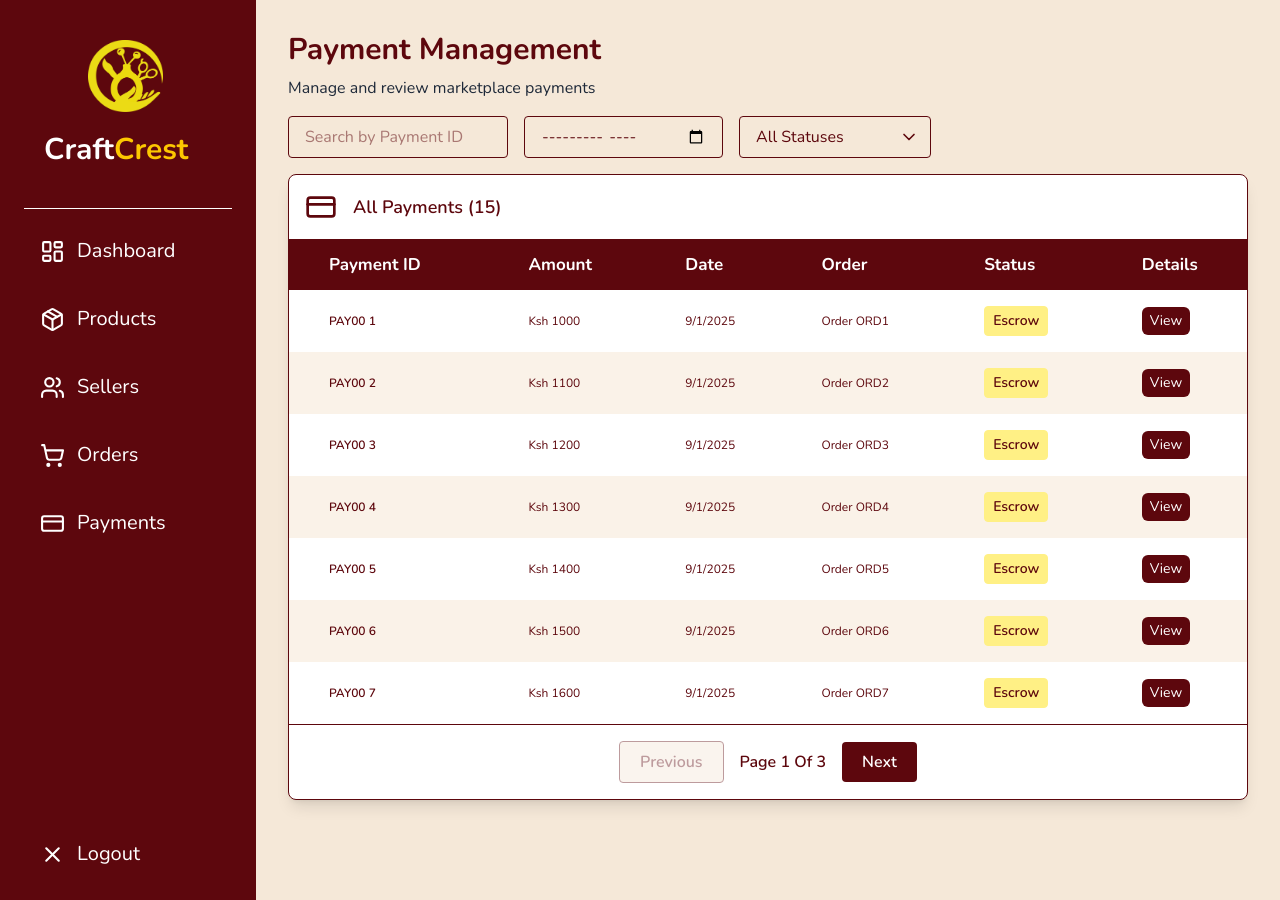
PaymentTable › handles pagination correctly
The image size is (1280, 900).
Expected: the text "Page 1 Of 3" is shown, [740,750,826,774]
Expected: the text "PAY00 1" is shown, [289,290,488,352]
Click the button "Next": (880, 762) [842,742,917,782]
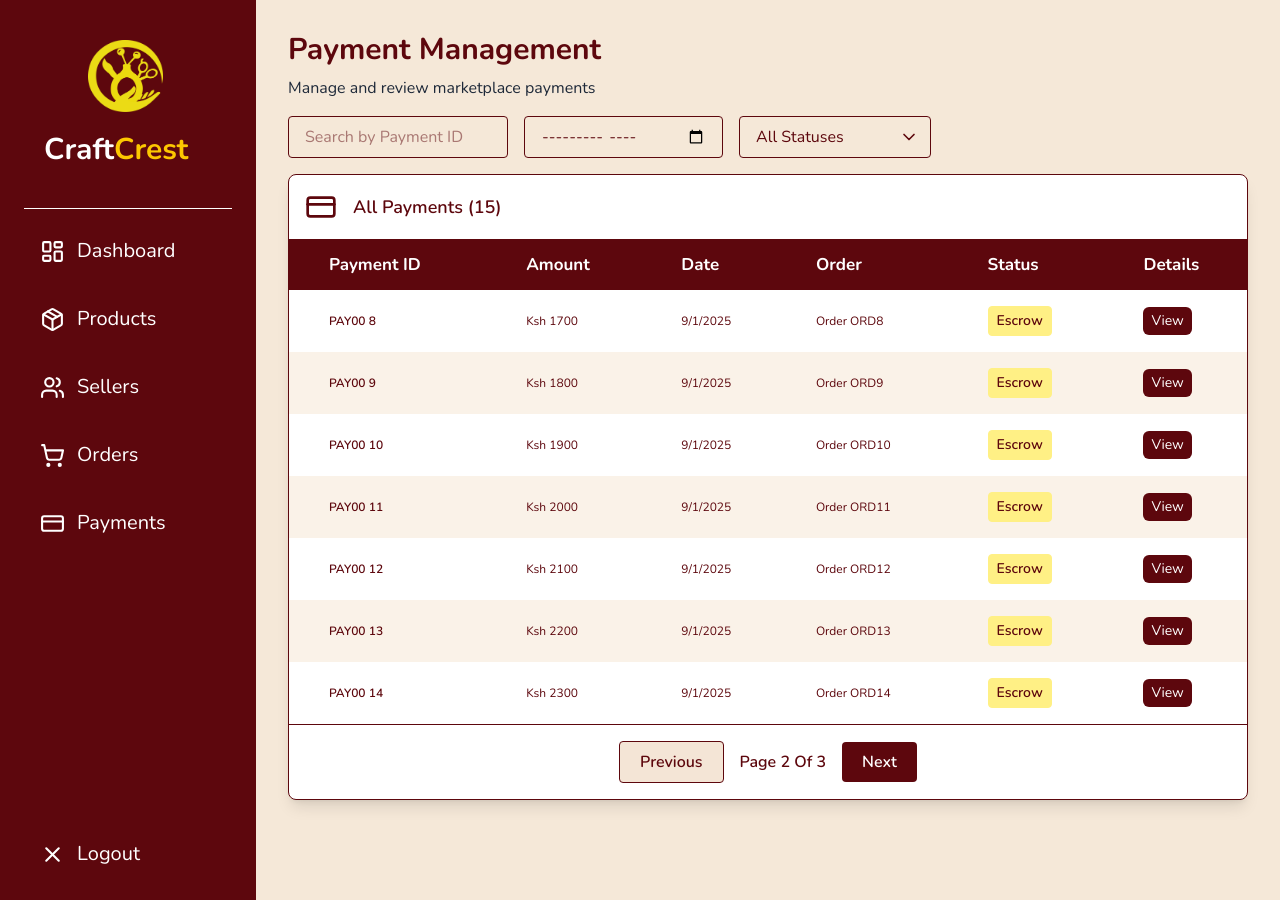
Now the text "Page 2 Of 3" is shown, box [740,750,826,774]
Now the text "PAY00 8" is shown, box [289,290,486,352]
